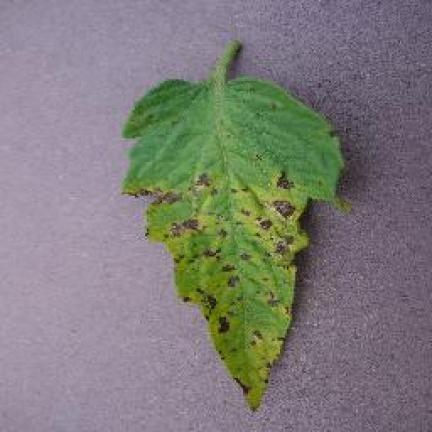leaf: (218, 120, 224, 128)
